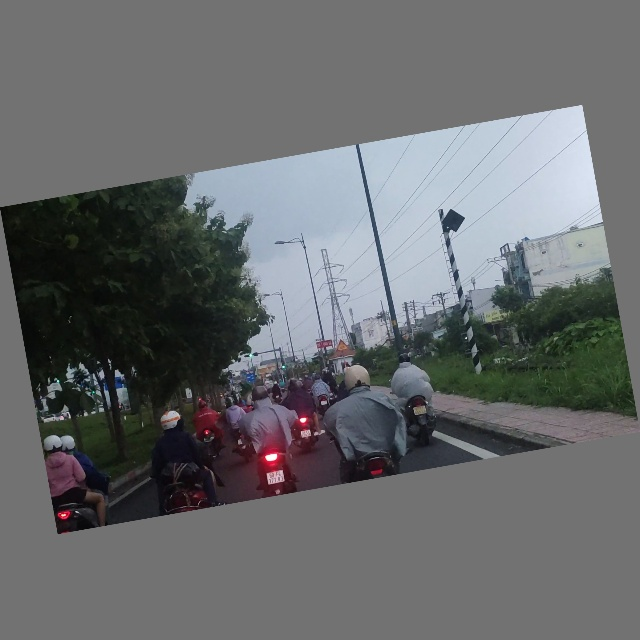W.210: (334, 339, 349, 353)
